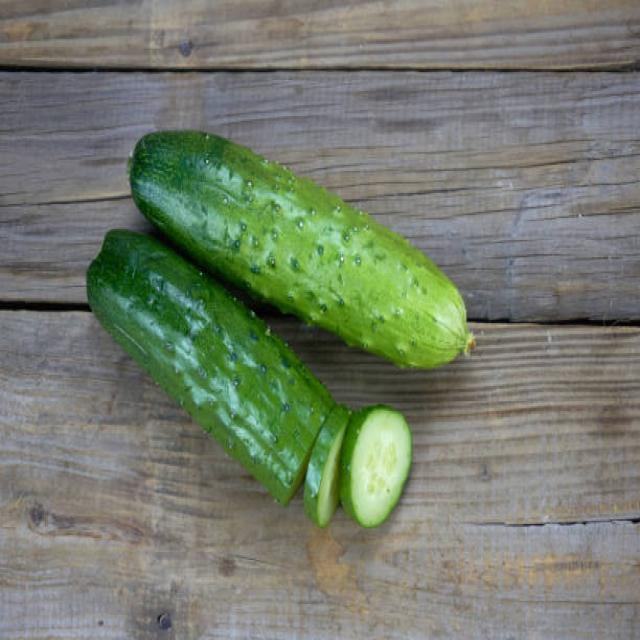cucumber: (128, 128, 468, 368), (88, 229, 336, 507)
